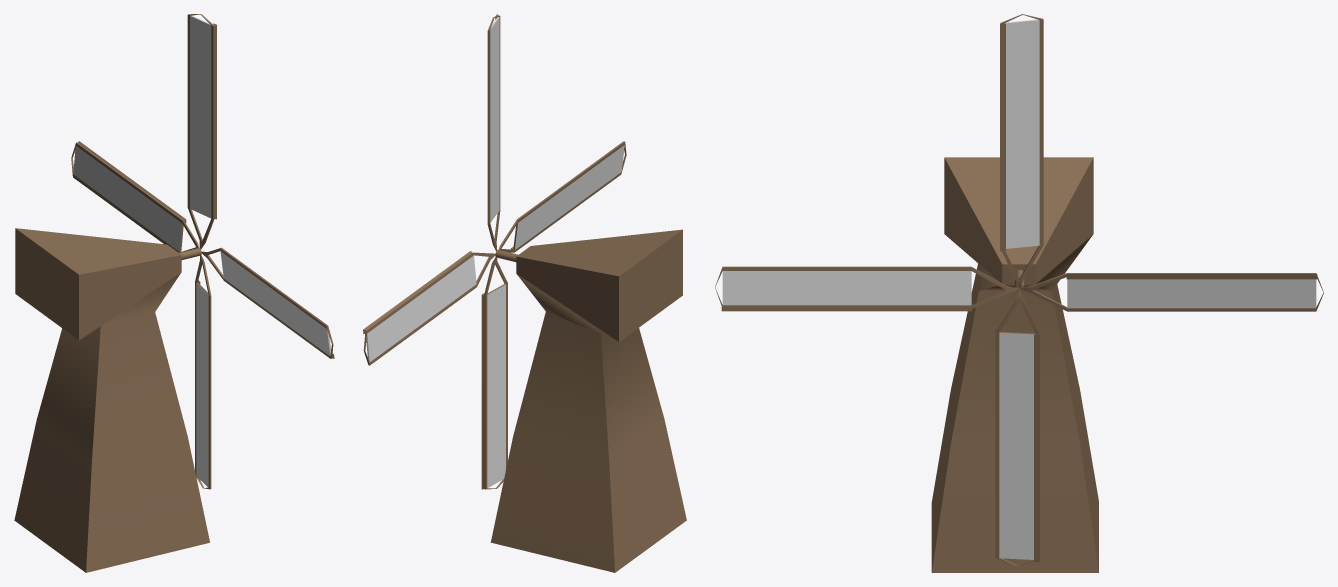
The model's file is Windmill.fbx.
The picture shows the model from 3 angles, left to right: view 1: azimuth 30°, elevation 25°; view 2: azimuth 150°, elevation 25°; view 3: azimuth 270°, elevation 25°; orthographic projection. The views are drawn at different scales.
Parts seen in each view (by area): view 1: pCube9, pCylinder6; view 2: pCube9, pCylinder6; view 3: pCylinder6, pCube9.
Part boxes in pixels (<box>): pCube9: <box>14,228,209,572</box>; pCylinder6: <box>71,14,334,489</box>; pCube9: <box>490,229,686,572</box>; pCylinder6: <box>363,14,626,489</box>; pCylinder6: <box>715,14,1323,565</box>; pCube9: <box>931,157,1098,572</box>.
Size of the model in its own units: 4.61 by 13.41 by 12.86.
